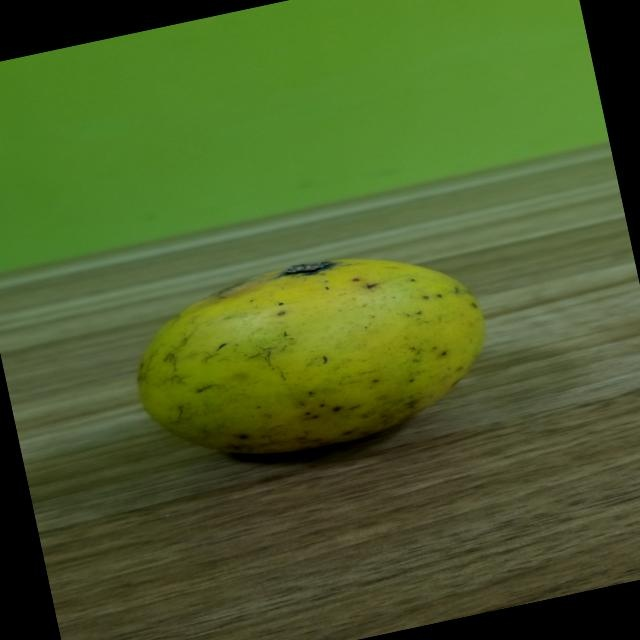agrume: (114, 217, 517, 506)
